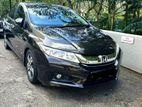car: (2, 3, 122, 94)
